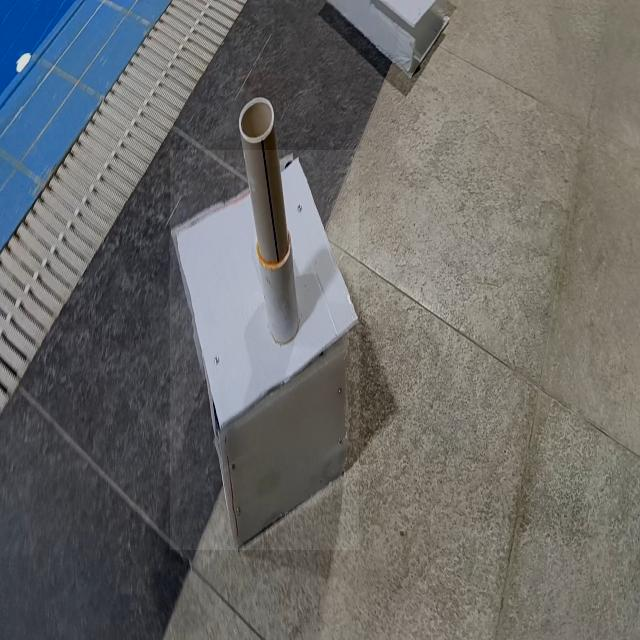Cube: (170, 150, 359, 550)
